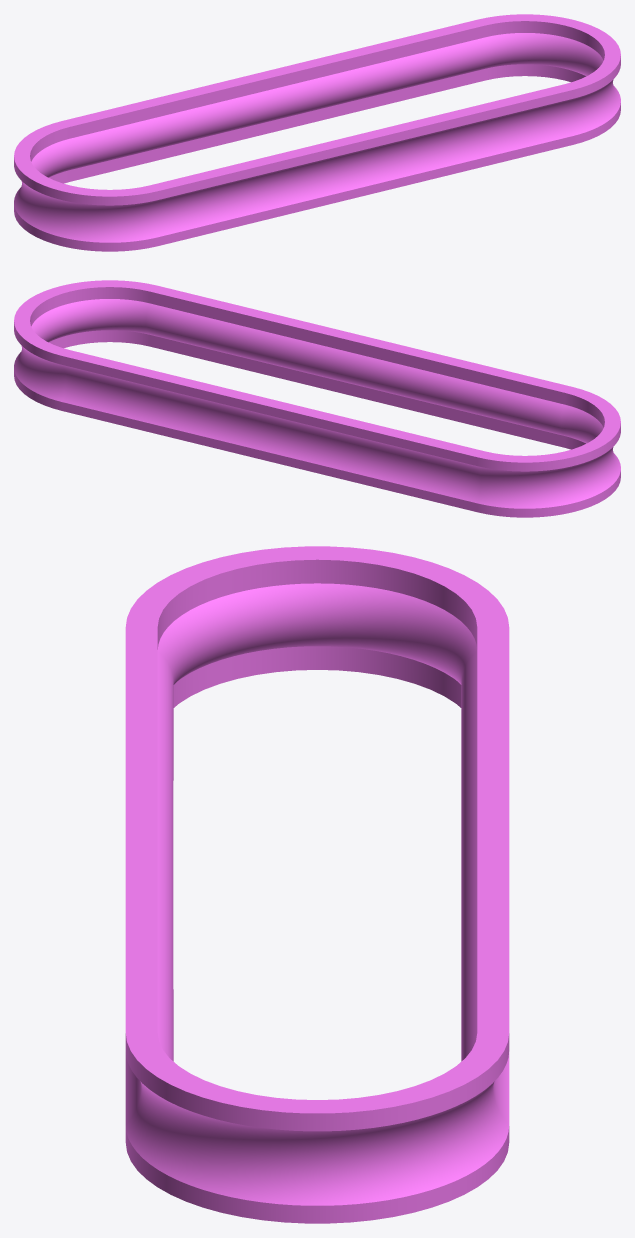
The model's file is FGCCWheel.obj.
The picture shows the model from 3 angles, top to bottom: view 1: azimuth 30°, elevation 25°; view 2: azimuth 150°, elevation 25°; view 3: azimuth 270°, elevation 25°; orthographic projection. The views are drawn at different scales.
Parts seen in each view (by area): view 1: Root|FGCCWheel_(Default)|Default|color; view 2: Root|FGCCWheel_(Default)|Default|color; view 3: Root|FGCCWheel_(Default)|Default|color.
Part boxes in pixels (box(x1,y1,x2,y2)): Root|FGCCWheel_(Default)|Default|color: box(14, 14, 620, 251); Root|FGCCWheel_(Default)|Default|color: box(14, 280, 620, 517); Root|FGCCWheel_(Default)|Default|color: box(125, 546, 509, 1223).
Bounding box in the file's own units: 0.4199 × 0.038 × 0.12.
